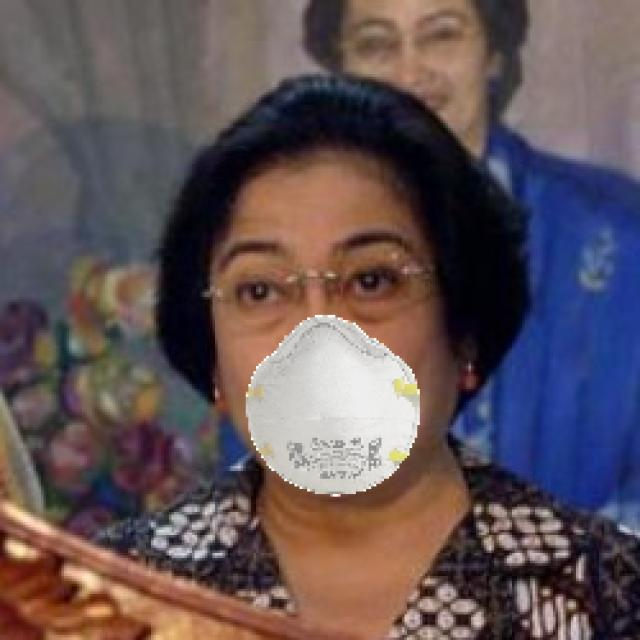mask: (226, 301, 460, 522)
